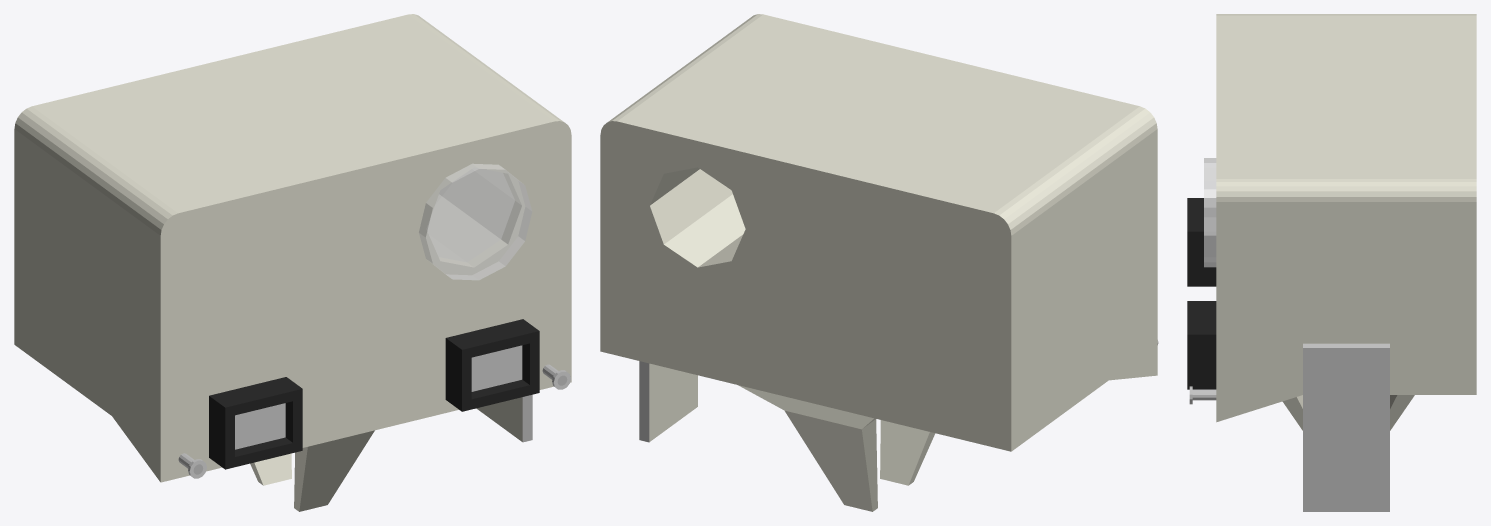
Rendered from rover-cam.glb.
3 views of the same model, side by side, from view 1: azimuth 30°, elevation 25°; view 2: azimuth 150°, elevation 25°; view 3: azimuth 270°, elevation 25° (orthographic). The views are drawn at different scales.
Visible parts, largest first — view 1: Cam, Cylinder.076; view 2: Cam; view 3: Cam, Cylinder.076.
Part boxes in pixels (box(x1,y1,x2,y2)): Cam: box(14, 14, 571, 511); Cylinder.076: box(419, 163, 532, 280); Cam: box(600, 14, 1158, 511); Cam: box(1187, 14, 1476, 511); Cylinder.076: box(1204, 158, 1216, 267).
Size of the model in its own units: 0.4599 by 0.3963 by 0.3077.
Materials: 5 (4 with a texture image).
